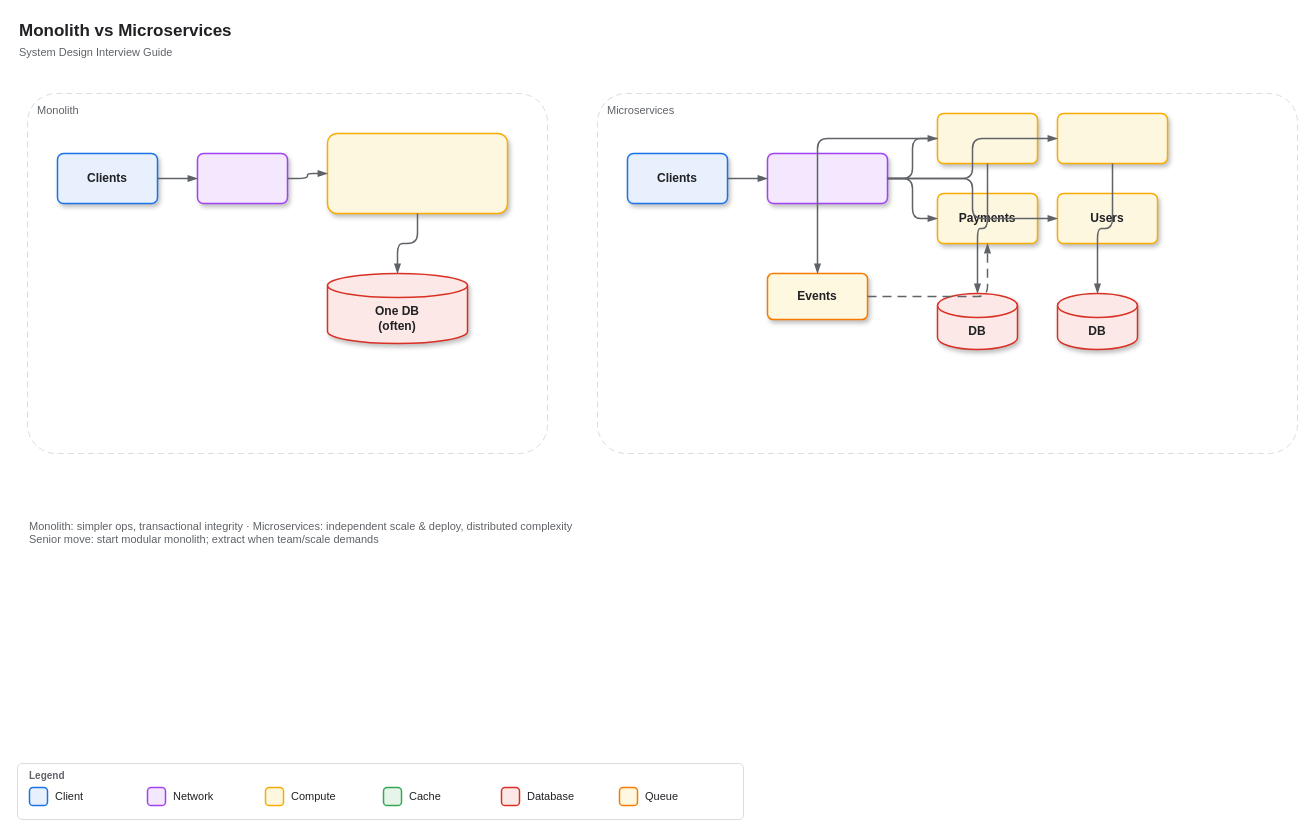
Image size: 1315x837. Some labels were removed from this diagram. The centre of each missing label's shape, as x and y in pixels:
API Gateway: (x=828, y=179)
Inventory: (x=1113, y=139)
LB: (x=243, y=179)
Orders: (x=988, y=139)
Single deployable modules in-process: (x=418, y=174)
